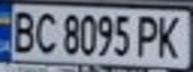0: (78, 10, 96, 56)
5: (112, 11, 136, 57)
8: (57, 10, 81, 56)
9: (96, 11, 115, 57)
B: (6, 7, 39, 54)
C: (30, 9, 60, 55)
K: (151, 12, 187, 60)
P: (133, 11, 163, 58)
